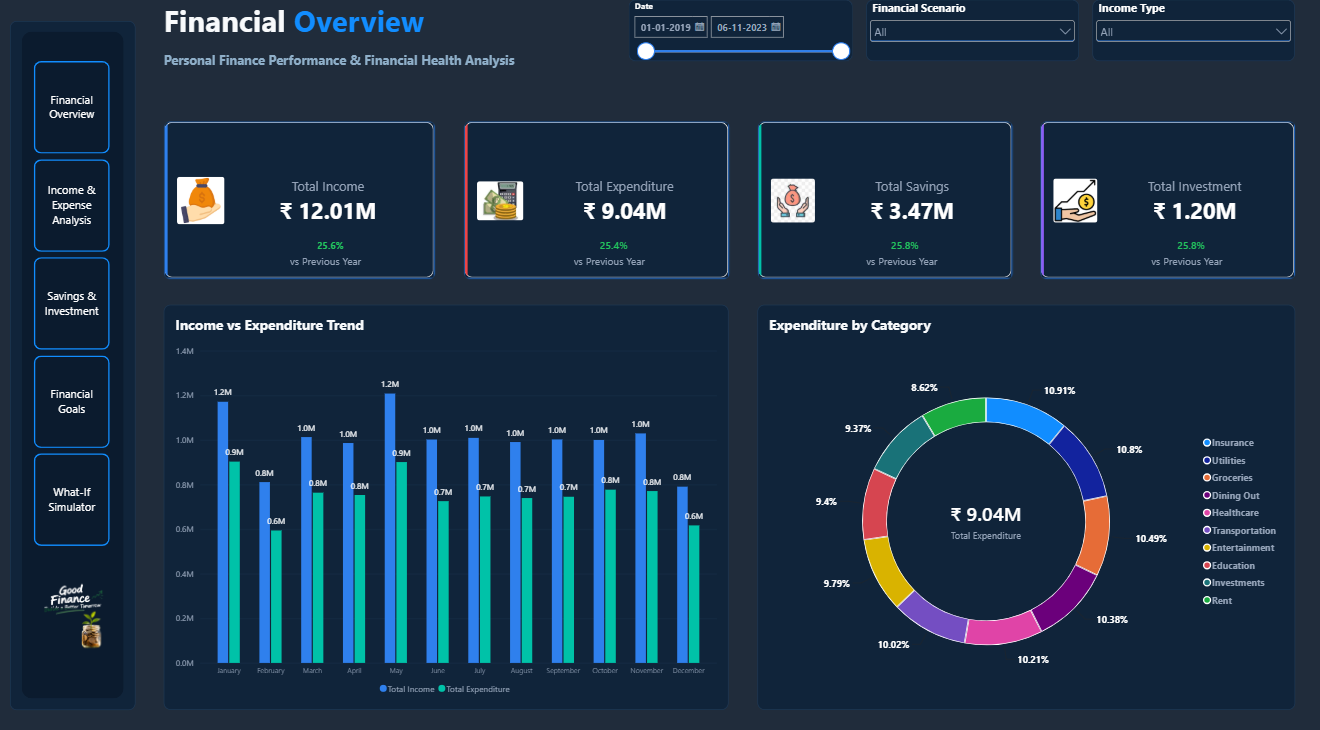

What the dashboard file says about the page in this screenshot:
{"tool":"powerbi","page":{"name":"Financial Overview","canvas":[1920,1080],"ordinal":0},"visuals":[{"type":"shape","title":"Financial S","box":[21.6,43.3,181.8,997.7],"z":0},{"type":"textbox","box":[244.3,12.7,452.4,61.5],"z":1000},{"type":"textbox","box":[244.3,74.2,559.2,54.3],"z":2000},{"type":"cardVisual","fields":{"Data":["_Measure.Total Income"]},"box":[244.3,188.2,393.9,229.4],"z":3000},{"type":"cardVisual","fields":{"Data":["_Measure.Total Expenditure"]},"box":[678.1,188.3,385.2,229.4],"z":4000},{"type":"cardVisual","fields":{"Data":["_Measure.Total Savings"]},"box":[1103,188.3,370.1,229.4],"z":5000},{"type":"cardVisual","fields":{"Data":["_Measure.Total Investment"]},"box":[1512.7,188.3,370.1,229.4],"z":6000},{"type":"slicer","fields":{"Values":["DateTable.Date"]},"box":[917.5,12.7,323.9,88.7],"z":7000},{"type":"slicer","fields":{"Values":["financial_data.financial_scenario"]},"box":[1261.3,12.7,307.6,88.7],"z":8000},{"type":"slicer","fields":{"Values":["financial_data.income_type"]},"box":[1588.9,12.7,293.2,88.7],"z":9000},{"type":"clusteredColumnChart","title":"Income vs Expenditure Trend","fields":{"Category":["DateTable.Month"],"Y":["_Measure.Total Income","_Measure.Total Expenditure"]},"box":[244.5,454.5,818,586.3],"z":10000},{"type":"donutChart","title":" Expenditure by Category","fields":{"Y":["_Measure.Total Expenditure"],"Category":["financial_data.category"]},"box":[1103.9,454.2,778.2,586.3],"z":11000},{"type":"cardVisual","fields":{"Data":["_Measure.Income Growth %"]},"box":[450.1,354.9,73.6,26],"z":12000},{"type":"cardVisual","fields":{"Data":["_Measure.Savings Growth %"]},"box":[1281.2,354.7,73.6,26],"z":13000},{"type":"cardVisual","fields":{"Data":["_Measure.Investment Growth %"]},"box":[1695.7,354.7,73.6,26],"z":14000},{"type":"textbox","box":[1673.9,380,121.2,28.1],"z":15000},{"type":"textbox","box":[1261.3,380,110.4,27.1],"z":16000},{"type":"textbox","box":[426.3,380.9,121.2,28.1],"z":17000},{"type":"textbox","box":[837.9,380,121.2,28.1],"z":18000},{"type":"cardVisual","fields":{"Data":["_Measure.Expenditure Growth %"]},"box":[859.6,354.7,73.6,26],"z":19000},{"type":"pageNavigator","box":[56.3,101.7,110.4,703.3],"z":20000},{"type":"image","box":[56.3,826.7,110.4,158],"z":20001}]}

Visuals, with their boxes in screenshot pixels (x1, y1, x2, y2), scaled from the page's 1920x1080 canvas onto the 1320x730 screenshot:
"Financial S" shape: <box>15,29,140,704</box>
textbox: <box>168,9,479,50</box>
textbox: <box>168,50,552,87</box>
cardVisual - _Measure.Total Income: <box>168,127,439,282</box>
cardVisual - _Measure.Total Expenditure: <box>466,127,731,282</box>
cardVisual - _Measure.Total Savings: <box>758,127,1013,282</box>
cardVisual - _Measure.Total Investment: <box>1040,127,1294,282</box>
slicer - DateTable.Date: <box>631,9,853,69</box>
slicer - financial_data.financial_scenario: <box>867,9,1079,69</box>
slicer - financial_data.income_type: <box>1092,9,1294,69</box>
"Income vs Expenditure Trend" clusteredColumnChart: <box>168,307,730,704</box>
" Expenditure by Category" donutChart: <box>759,307,1294,703</box>
cardVisual - _Measure.Income Growth %: <box>309,240,360,257</box>
cardVisual - _Measure.Savings Growth %: <box>881,240,931,257</box>
cardVisual - _Measure.Investment Growth %: <box>1166,240,1216,257</box>
textbox: <box>1151,257,1234,276</box>
textbox: <box>867,257,943,275</box>
textbox: <box>293,257,376,276</box>
textbox: <box>576,257,659,276</box>
cardVisual - _Measure.Expenditure Growth %: <box>591,240,642,257</box>
pageNavigator: <box>39,69,115,544</box>
image: <box>39,559,115,666</box>
